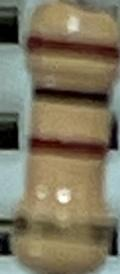Black: (33, 81, 108, 107)
Brown: (29, 37, 118, 65), (29, 135, 110, 161)
Side-Silver: (13, 210, 110, 246)
